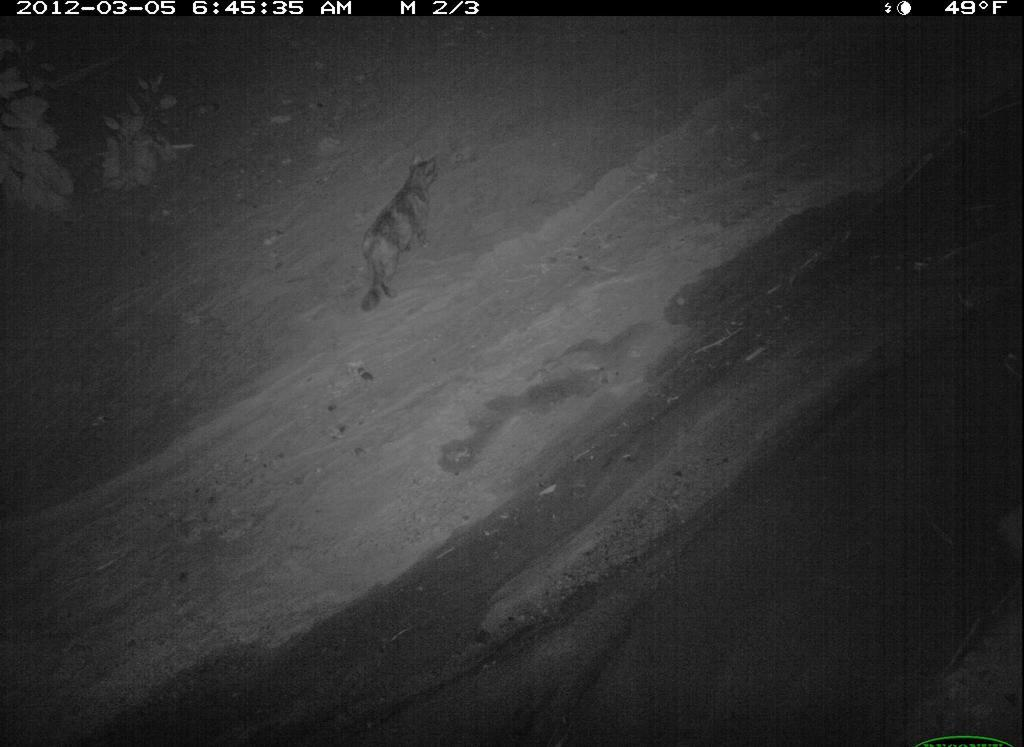cat: (708, 286, 885, 643)
